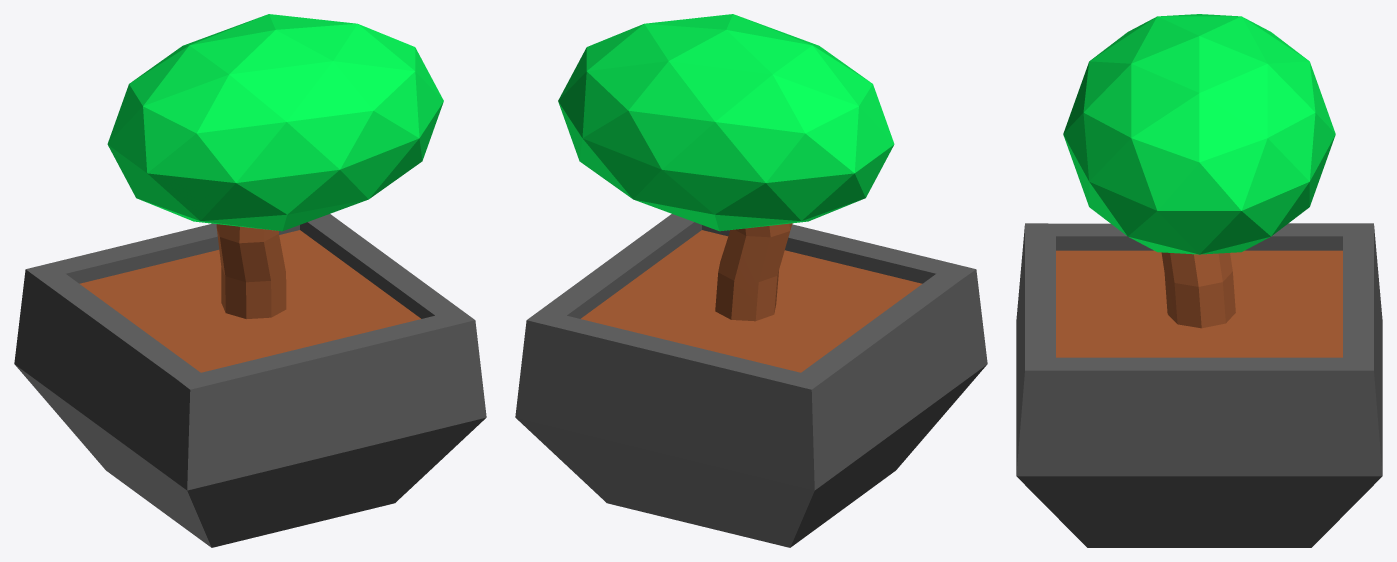
Rendered from Bush_Small.fbx.
3 views of the same model, side by side, from view 1: azimuth 30°, elevation 25°; view 2: azimuth 150°, elevation 25°; view 3: azimuth 270°, elevation 25° (orthographic). The views are drawn at different scales.
Parts seen in each view (by area): view 1: Box001, GeoSphere001, Cylinder004; view 2: Box001, GeoSphere001, Cylinder004; view 3: Box001, GeoSphere001, Cylinder004.
Boxes of the visible parts, left/top/right/bottom form: Box001: left=14, top=214, right=486, bottom=547; GeoSphere001: left=107, top=14, right=443, bottom=231; Cylinder004: left=216, top=224, right=286, bottom=319; Box001: left=515, top=214, right=987, bottom=547; GeoSphere001: left=558, top=14, right=894, bottom=231; Cylinder004: left=715, top=223, right=792, bottom=321; Box001: left=1016, top=223, right=1382, bottom=547; GeoSphere001: left=1063, top=14, right=1335, bottom=254; Cylinder004: left=1161, top=252, right=1235, bottom=328.
Size of the model in its own units: 6.16 by 8.2 by 5.7.
